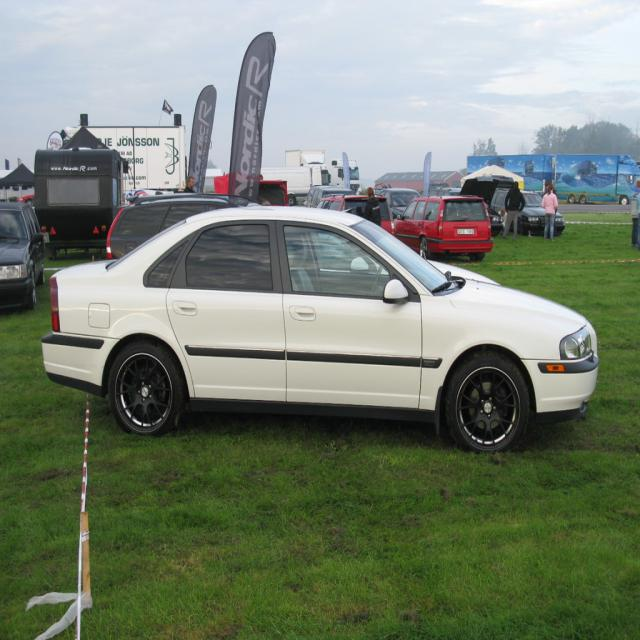car: (41, 205, 598, 454)
